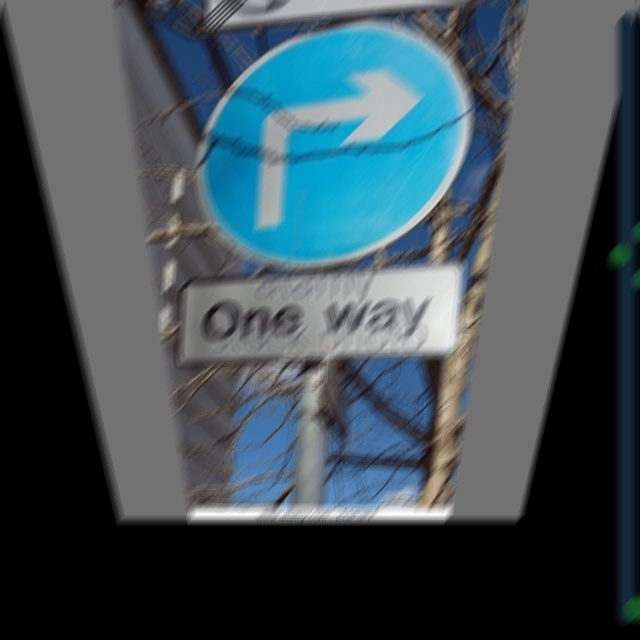Compulsory_Turn_Right_Ahead: (181, 23, 479, 258)
